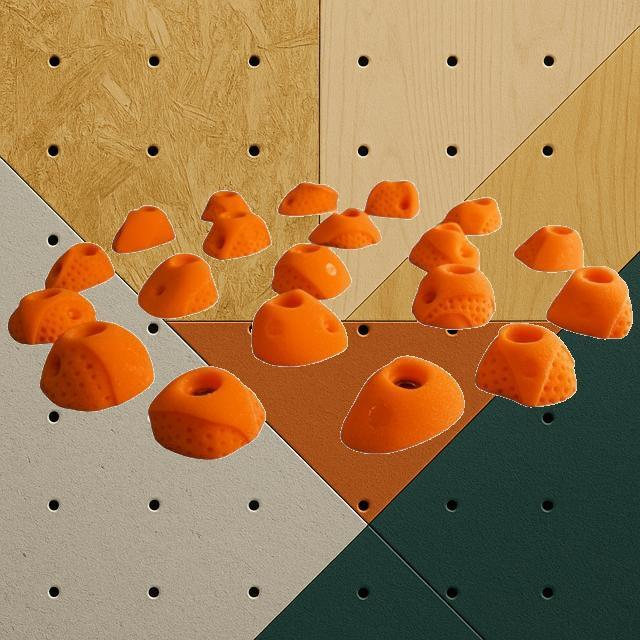Sloper: (340, 354, 464, 454), (147, 364, 265, 460), (39, 319, 153, 411), (475, 322, 577, 406), (251, 288, 347, 367), (546, 264, 632, 340), (411, 263, 495, 329), (138, 252, 218, 318), (8, 287, 96, 345), (271, 242, 351, 298), (408, 220, 479, 272), (44, 240, 114, 292), (200, 210, 270, 260), (513, 224, 583, 272), (111, 204, 175, 253), (308, 207, 380, 250), (440, 197, 500, 236), (364, 178, 420, 218), (278, 180, 338, 216), (201, 191, 253, 223)
